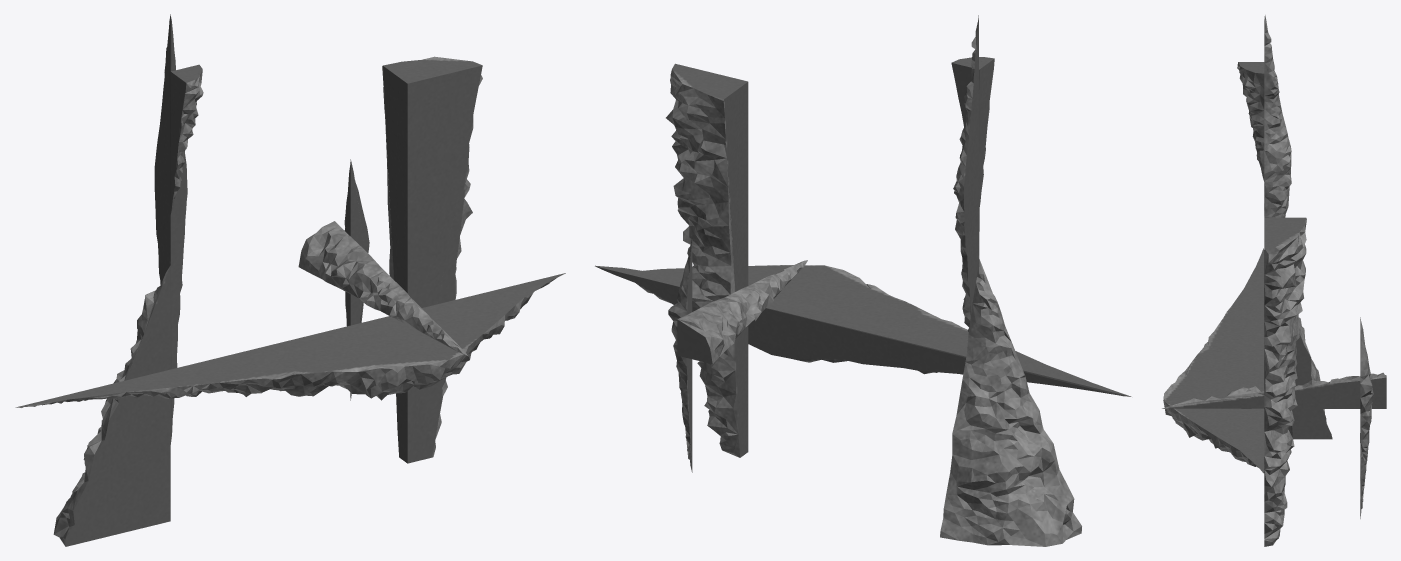
Rendered from bakedLow.gltf.
The picture shows the model from 3 angles, left to right: view 1: azimuth 30°, elevation 25°; view 2: azimuth 150°, elevation 25°; view 3: azimuth 270°, elevation 25°; orthographic projection. The views are drawn at different scales.
Visible parts, largest first — view 1: Texturizado; view 2: Texturizado; view 3: Texturizado.
Boxes of the visible parts, x1=… form: Texturizado: x1=15, y1=14, x2=565, y2=546; Texturizado: x1=595, y1=15, x2=1131, y2=546; Texturizado: x1=1162, y1=15, x2=1386, y2=546.
Size of the model in its own units: 15.19 by 13.35 by 6.4.
2 materials, 2 textured.
